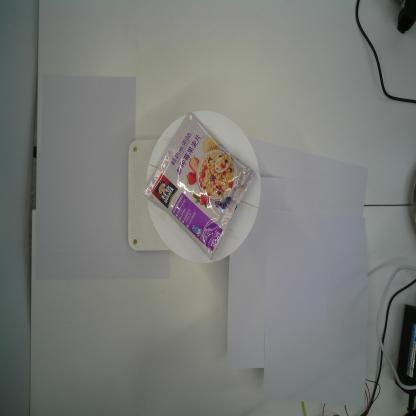Instant Drink: (141, 110, 256, 261)
